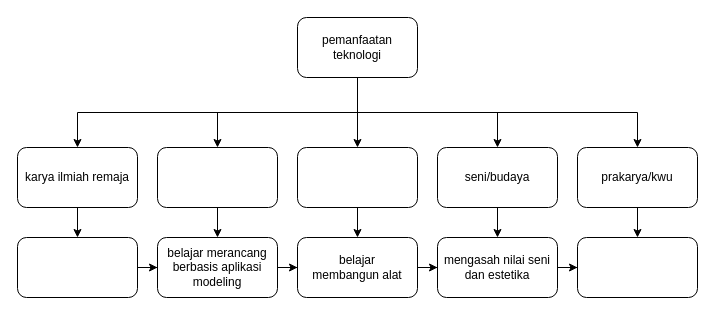
This 715x315 diagram has some shape labels left out. Here are the shapes that lost their labels. From the top down, the box of each, then its label:
(156, 146, 278, 208): multimedia
(296, 146, 418, 208): robotik
(16, 236, 138, 298): isu lingkungan pengelolaan sampah
(576, 236, 698, 298): display produk
